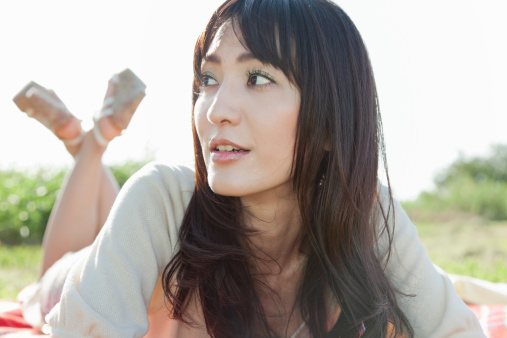deitado: (4, 0, 372, 338)
